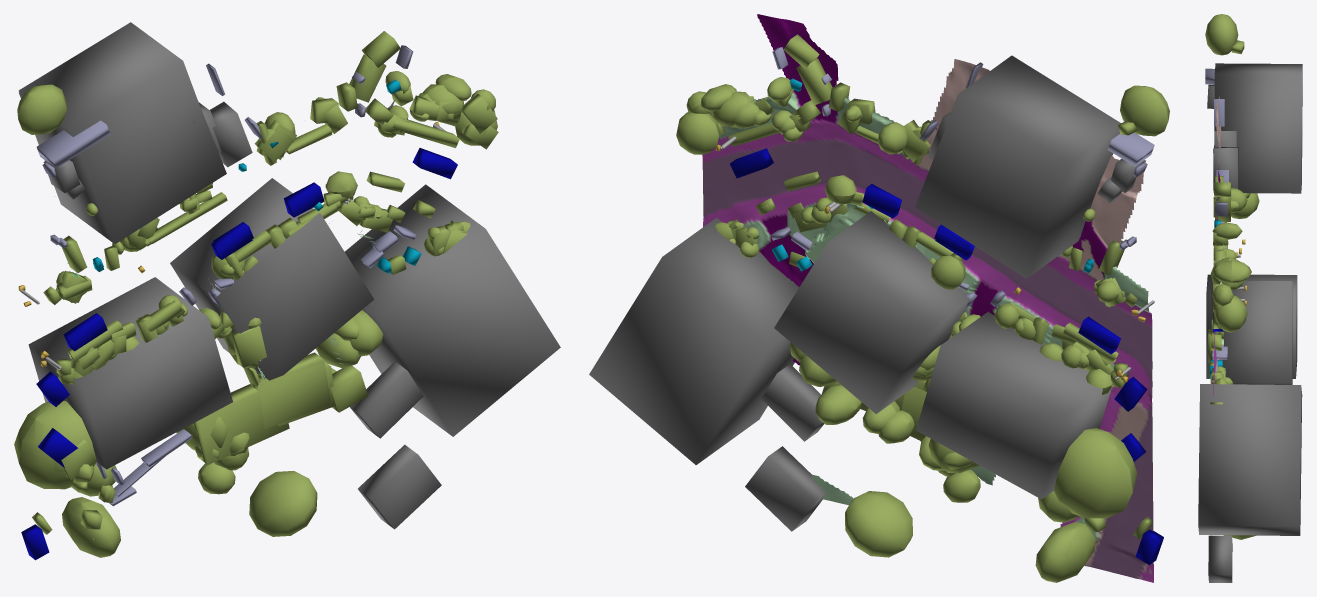
Rendered from medium_380.glb.
3 renders of one model, left to right at view 1: azimuth 30°, elevation 25°; view 2: azimuth 150°, elevation 25°; view 3: azimuth 270°, elevation 25°, orthographic. The views are drawn at different scales.
Bounding box in the file's own units: 74.9 × 70.56 × 15.57.
